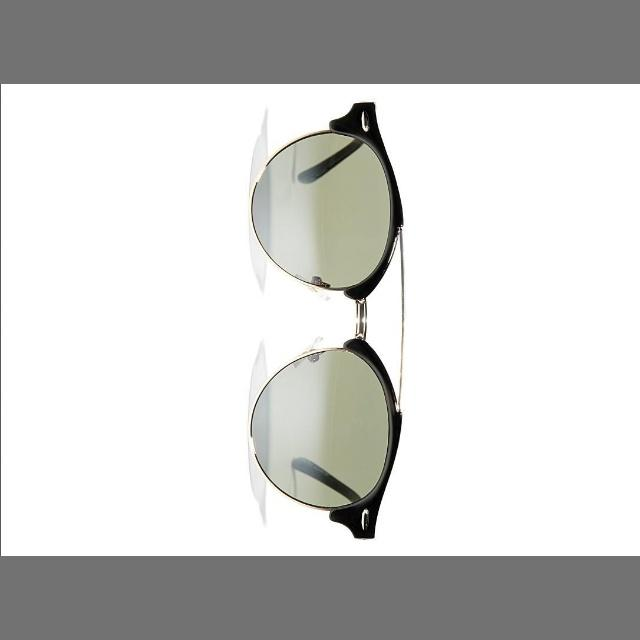Sunglasses: (217, 91, 429, 539)
